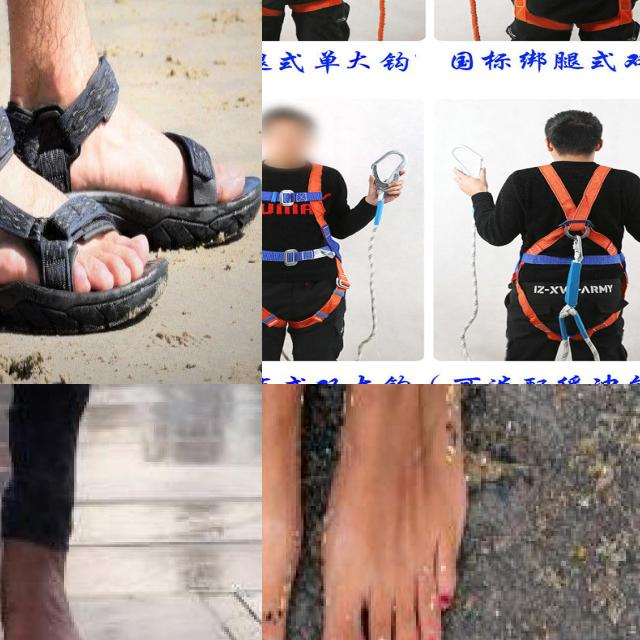Barefoots: (320, 384, 473, 640), (0, 491, 122, 640)
Harness: (524, 162, 630, 344), (262, 160, 348, 324)
Sandals: (0, 106, 168, 333)
